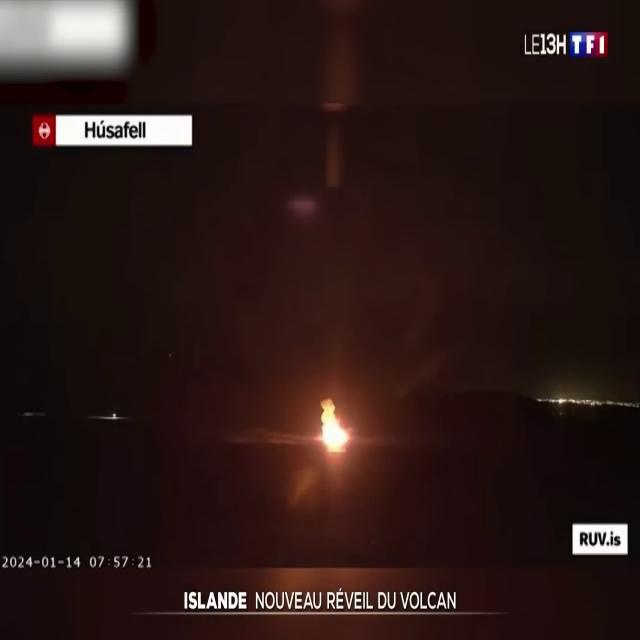Fire: (313, 387, 354, 460)
